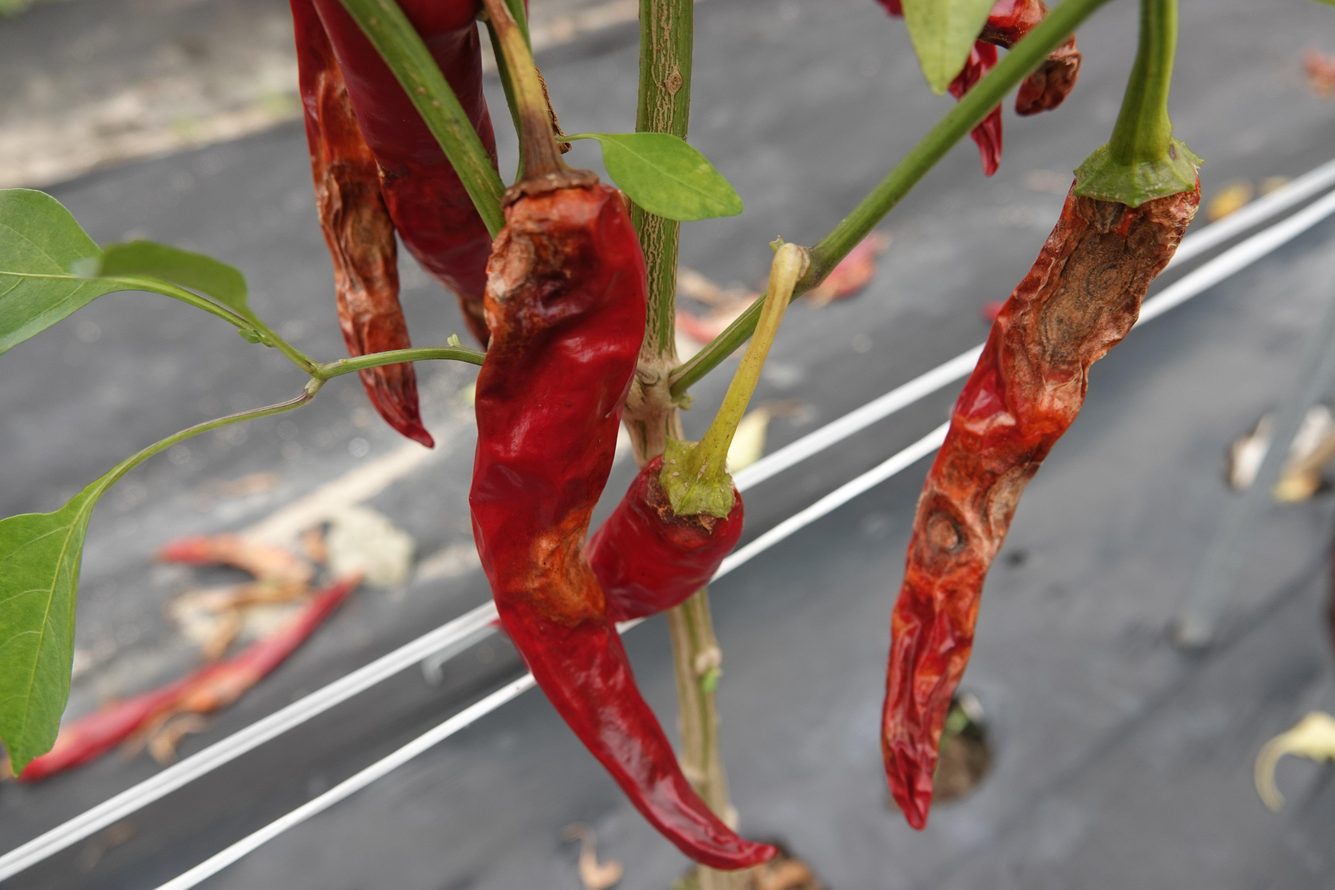Busuk Buah Antraknosa: (878, 133, 1212, 836), (468, 157, 786, 883), (293, 6, 444, 453), (581, 447, 745, 636)
